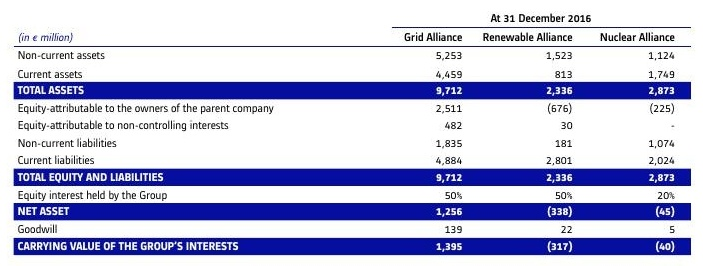table: (0, 0, 703, 266)
